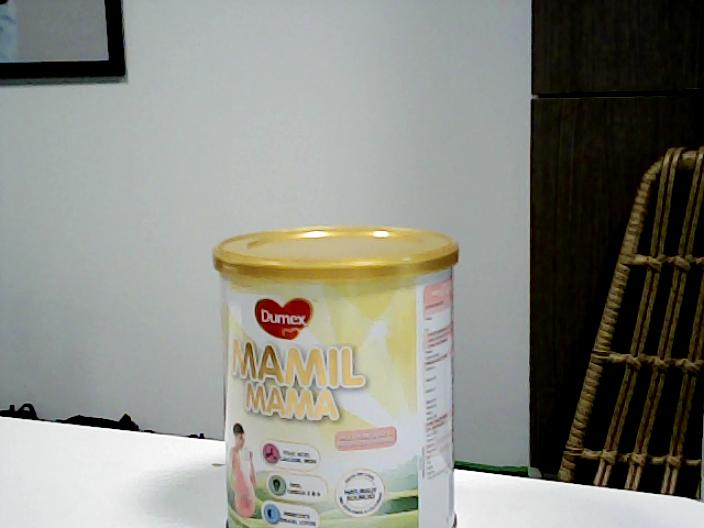MaternalMilkPowder_600-699g_NonHalal_NonHealthy: (212, 224, 462, 528)
